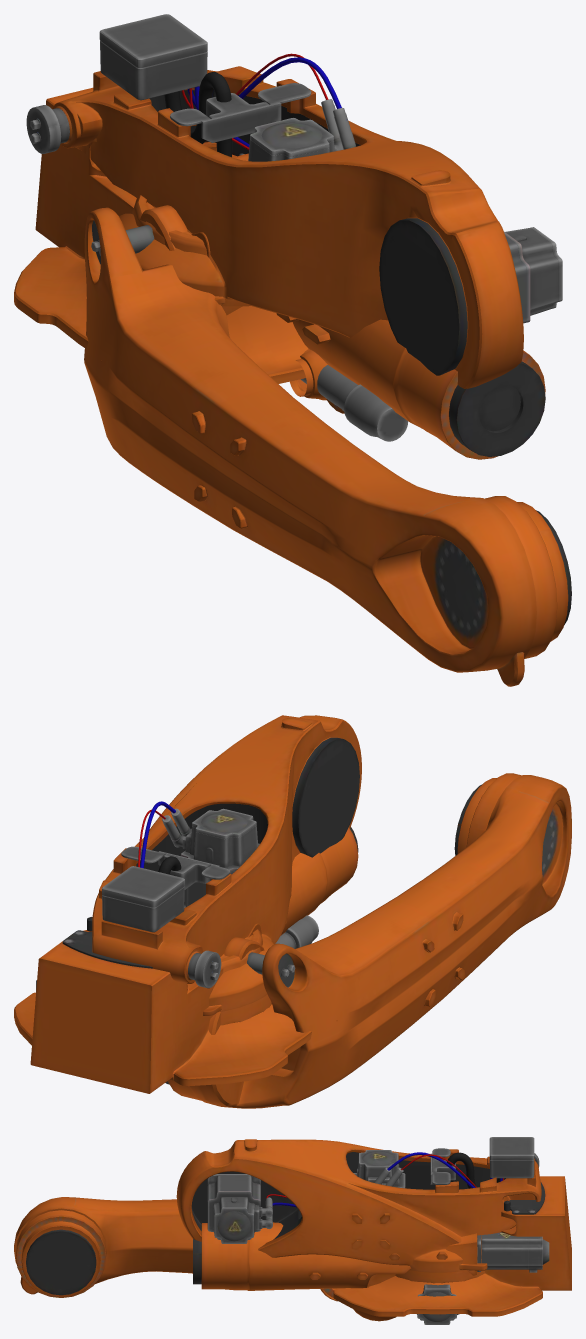
The model's file is robot.glb.
3 renders of one model, top to bottom at view 1: azimuth 30°, elevation 25°; view 2: azimuth 150°, elevation 25°; view 3: azimuth 270°, elevation 25°, orthographic. The views are drawn at different scales.
Visible parts, largest first — view 1: Six-Axis_Linkage_01, Six-Axis_Linkage_02, Six-Axis_Base, Six-Axis_Linkage_03, Six-Axis_Hydraulic_01, Six-Axis_Linkage_04; view 2: Six-Axis_Linkage_02, Six-Axis_Linkage_01, Six-Axis_Base, Six-Axis_Linkage_03, Six-Axis_Hydraulic_01; view 3: Six-Axis_Linkage_01, Six-Axis_Linkage_02, Six-Axis_Linkage_03, Six-Axis_Base.
Part boxes in pixels (x1,y1,x2,y2): Six-Axis_Linkage_01: (26, 14, 562, 388); Six-Axis_Linkage_02: (84, 205, 571, 686); Six-Axis_Base: (14, 87, 308, 383); Six-Axis_Linkage_03: (233, 153, 545, 459); Six-Axis_Hydraulic_01: (300, 365, 408, 441); Six-Axis_Linkage_04: (290, 349, 344, 413); Six-Axis_Linkage_02: (165, 773, 571, 1108); Six-Axis_Linkage_01: (92, 715, 361, 1025); Six-Axis_Base: (14, 917, 337, 1093); Six-Axis_Linkage_03: (36, 827, 358, 992); Six-Axis_Hydraulic_01: (275, 915, 318, 948); Six-Axis_Linkage_01: (176, 1137, 541, 1283); Six-Axis_Linkage_02: (14, 1197, 459, 1314); Six-Axis_Linkage_03: (193, 1222, 549, 1324); Six-Axis_Base: (333, 1176, 571, 1316).
Size of the model in its own units: 0.7853 by 0.7457 by 2.
Materials: 1 (1 with a texture image).
